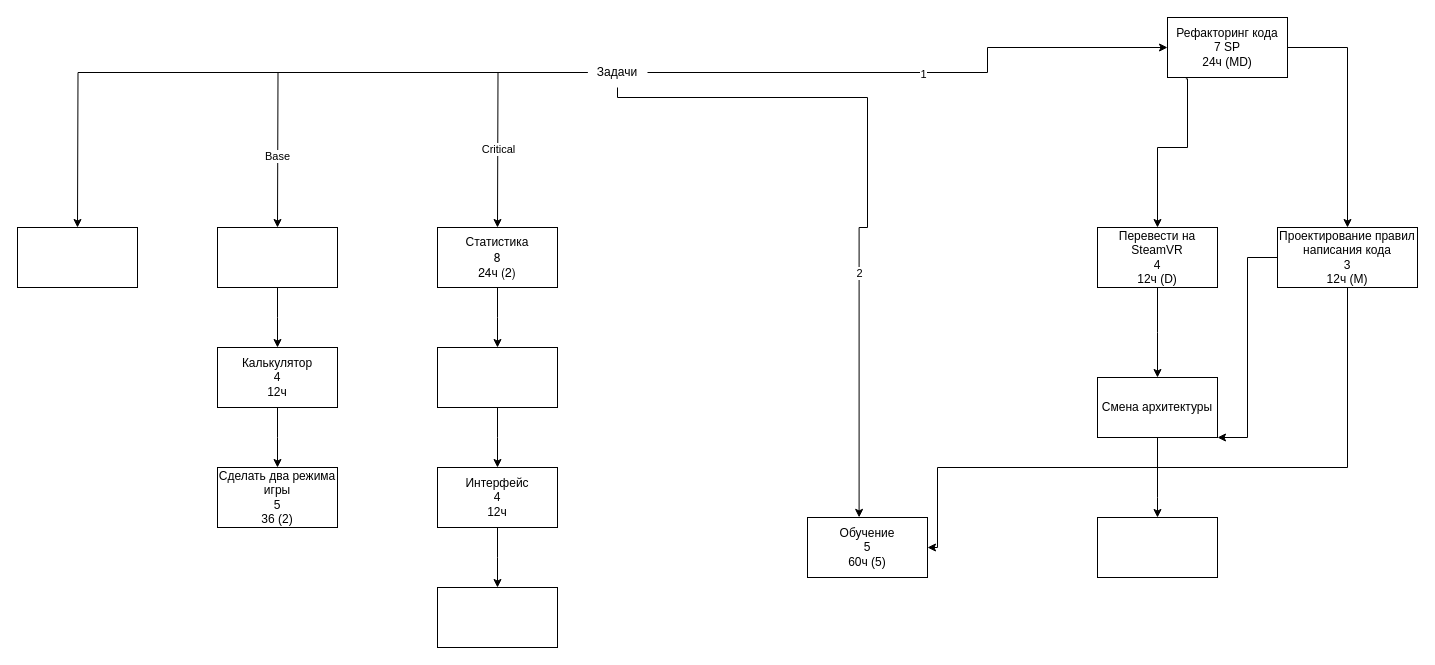
Some shapes in this 1435 by 665 pixel diagram are drawn without their labels. Here are the shapes that lost their labels. From the top down, the box of each, then its label:
(16, 226, 138, 288): Инвентарь 5 12ч
(216, 226, 338, 288): Указывать размер комнаты 4 24ч (2)
(436, 346, 558, 408): Звуки 3 12ч
(1096, 516, 1218, 578): Доработать 3 36ч (3)
(436, 586, 558, 648): Грунтовка 3 12ч
